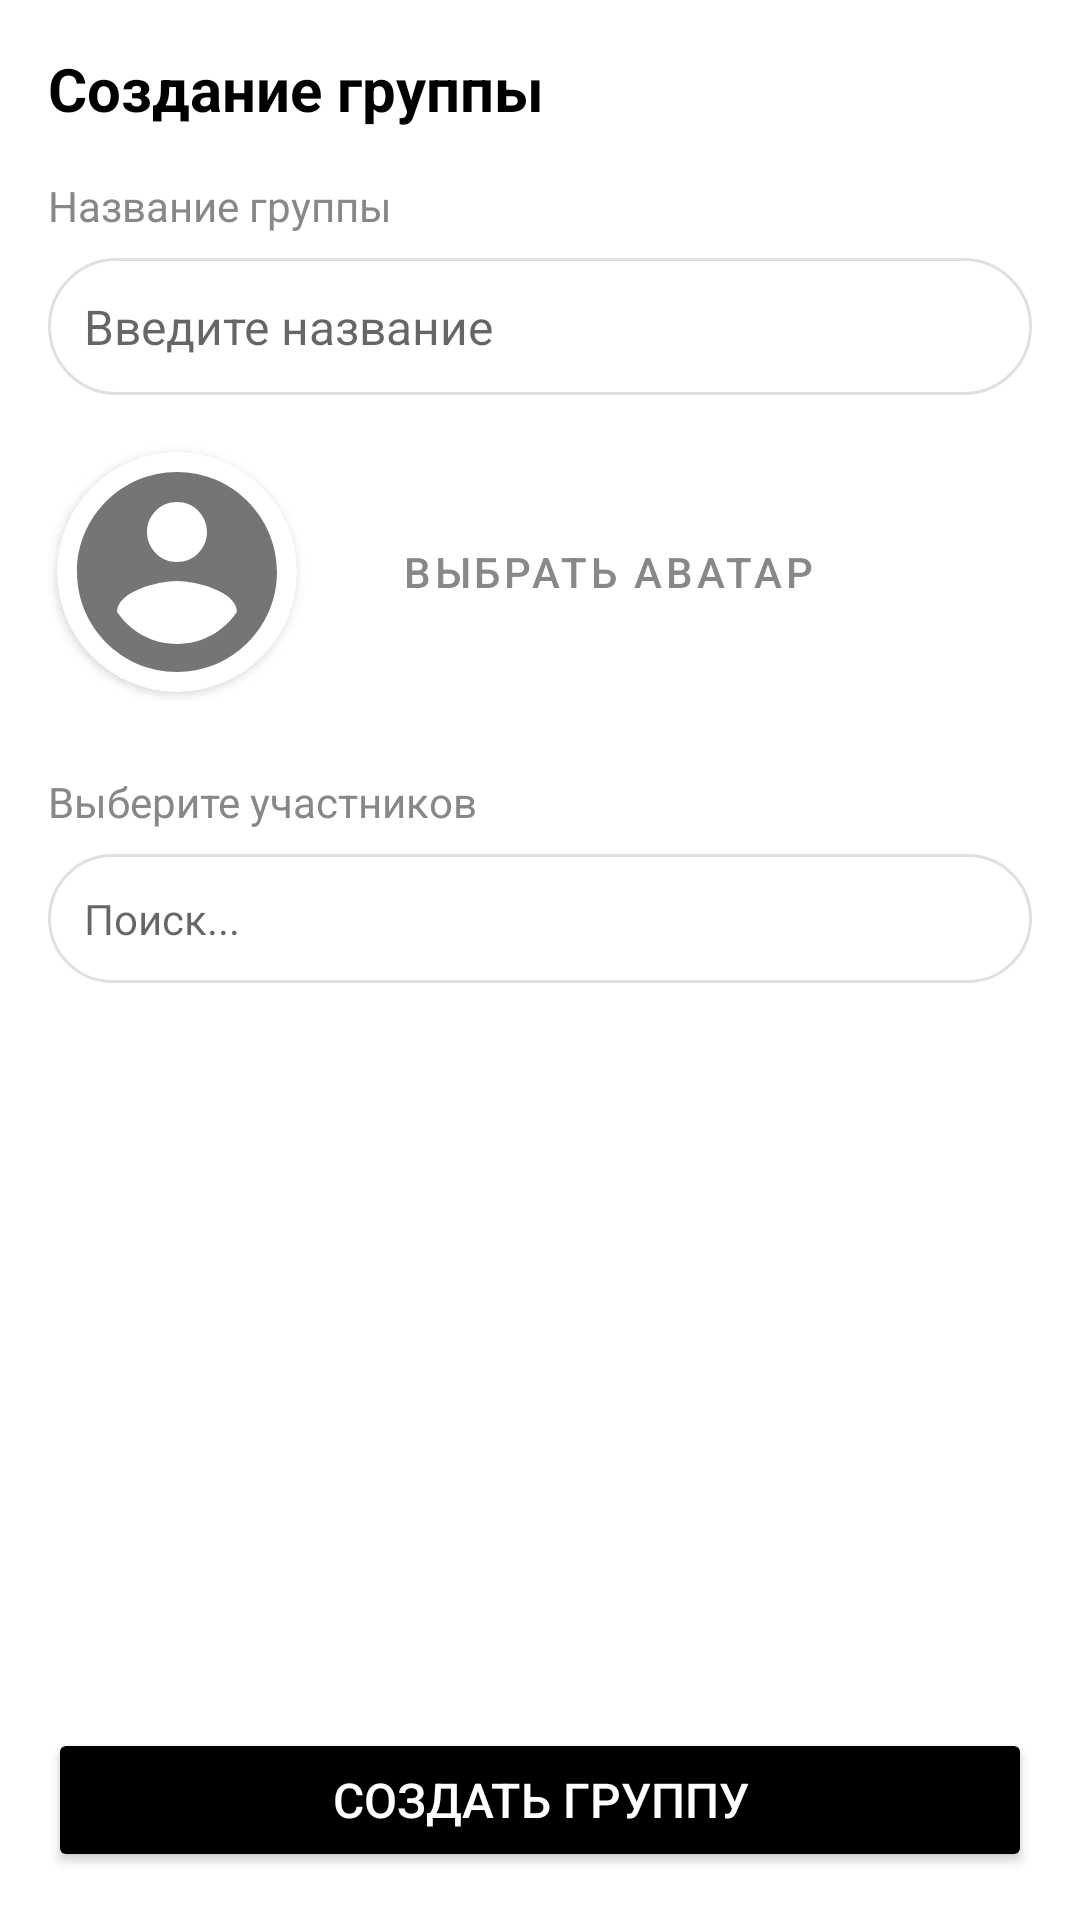

Icons on this 1080x1920 Android screen, each with its box as detection(x1, y1, x2, y2):
person: detection(57, 472, 277, 692)
